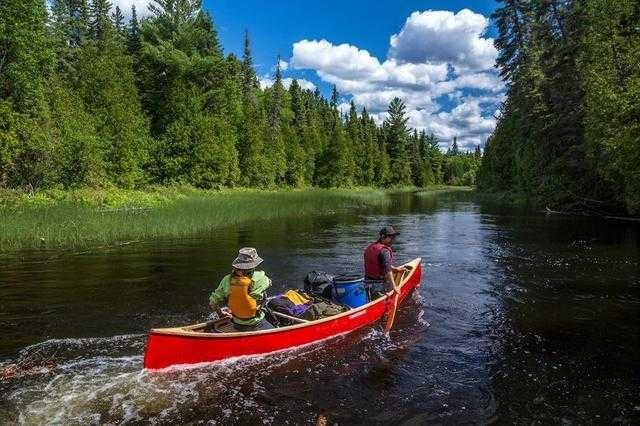kayak: (143, 260, 422, 375)
